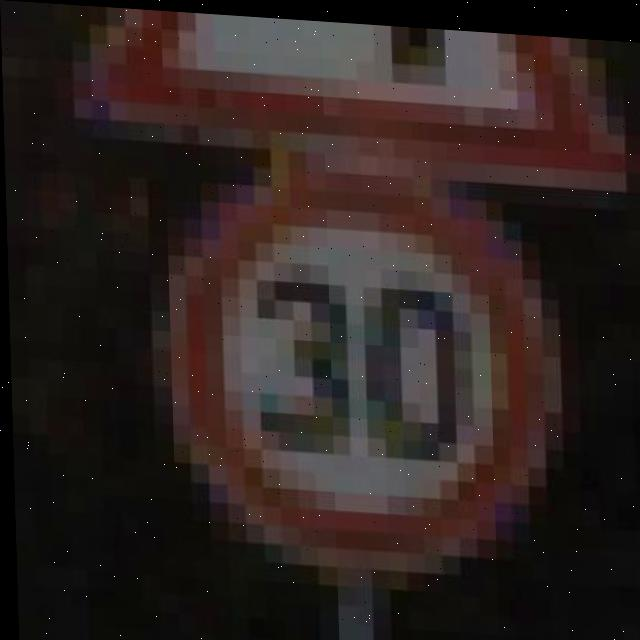Speed limit 30: (62, 4, 640, 589)
